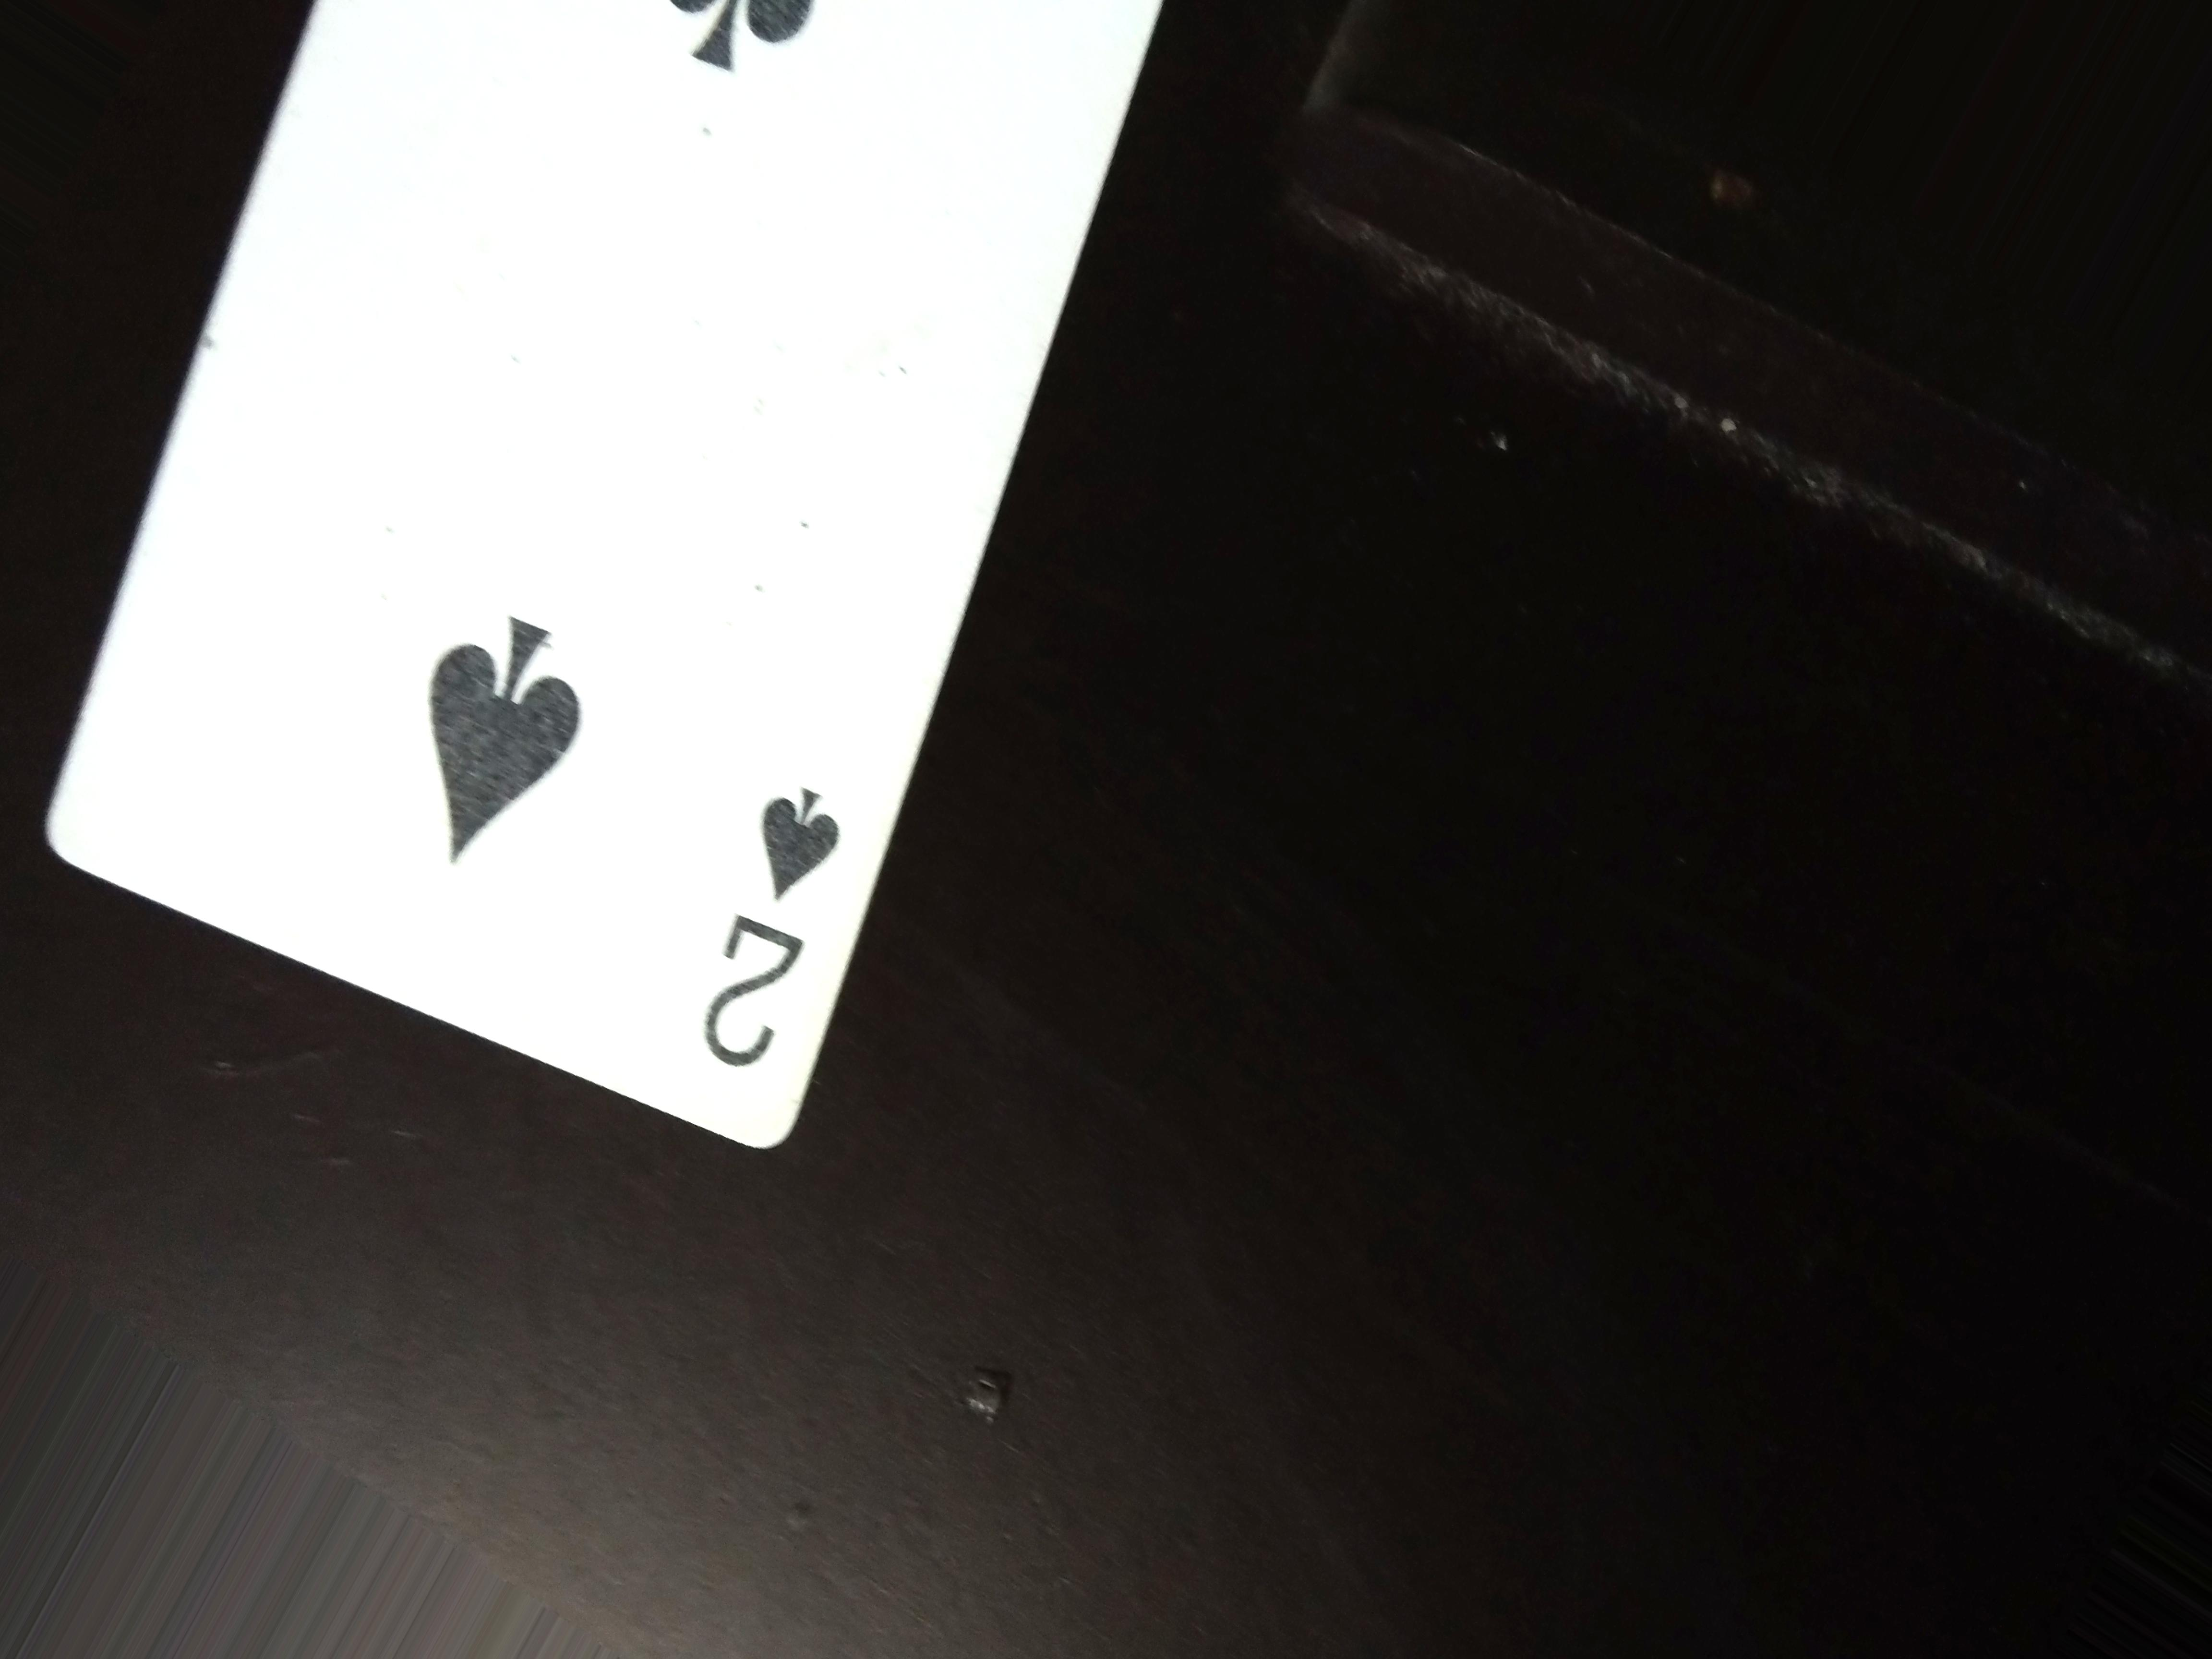2S: (664, 749, 834, 1070)
